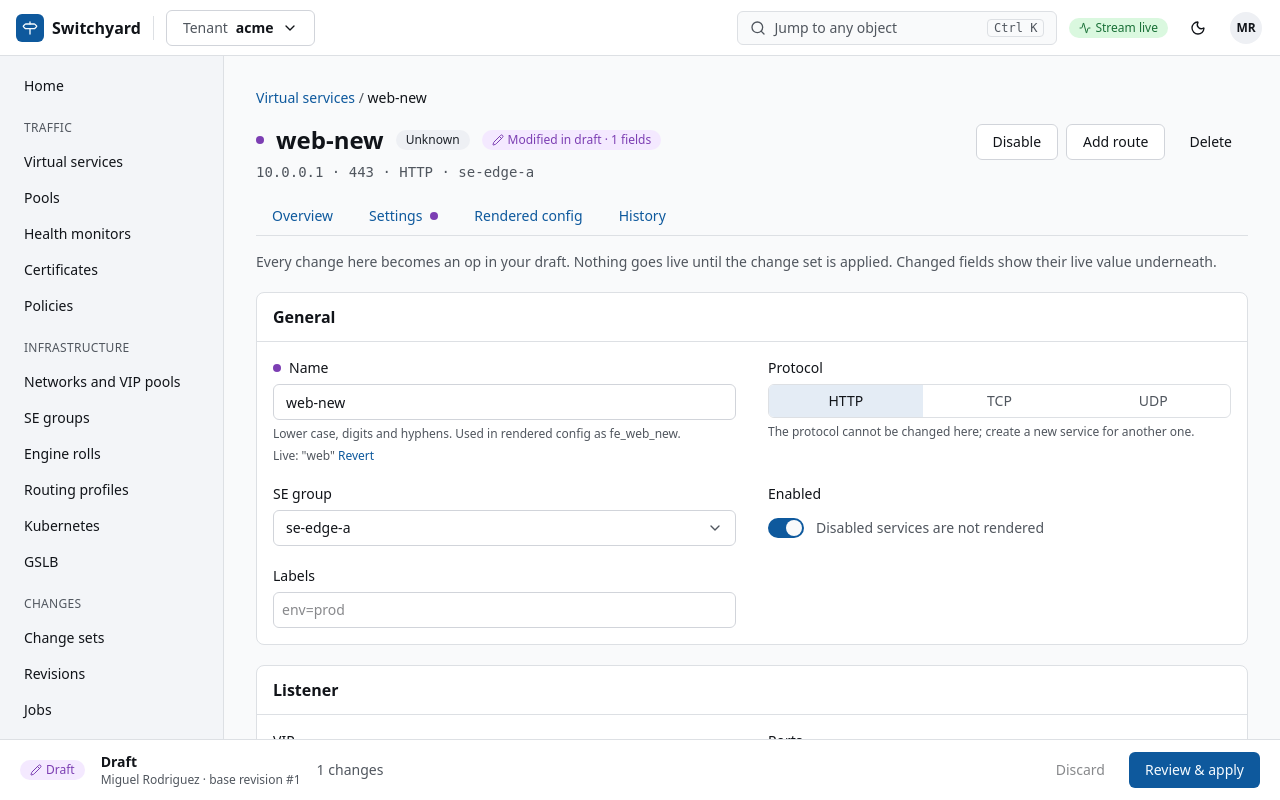
virtual service settings › marks drafted fields with the live value and a Revert action
Check: the element named "Changed in draft" next to "Settings" is shown, box [430,212,438,220]
Check: the text "Live: \"web\" Revert" is shown, box [273,447,374,464]
Click the button "Revert": [356, 456] box [338,448,374,464]
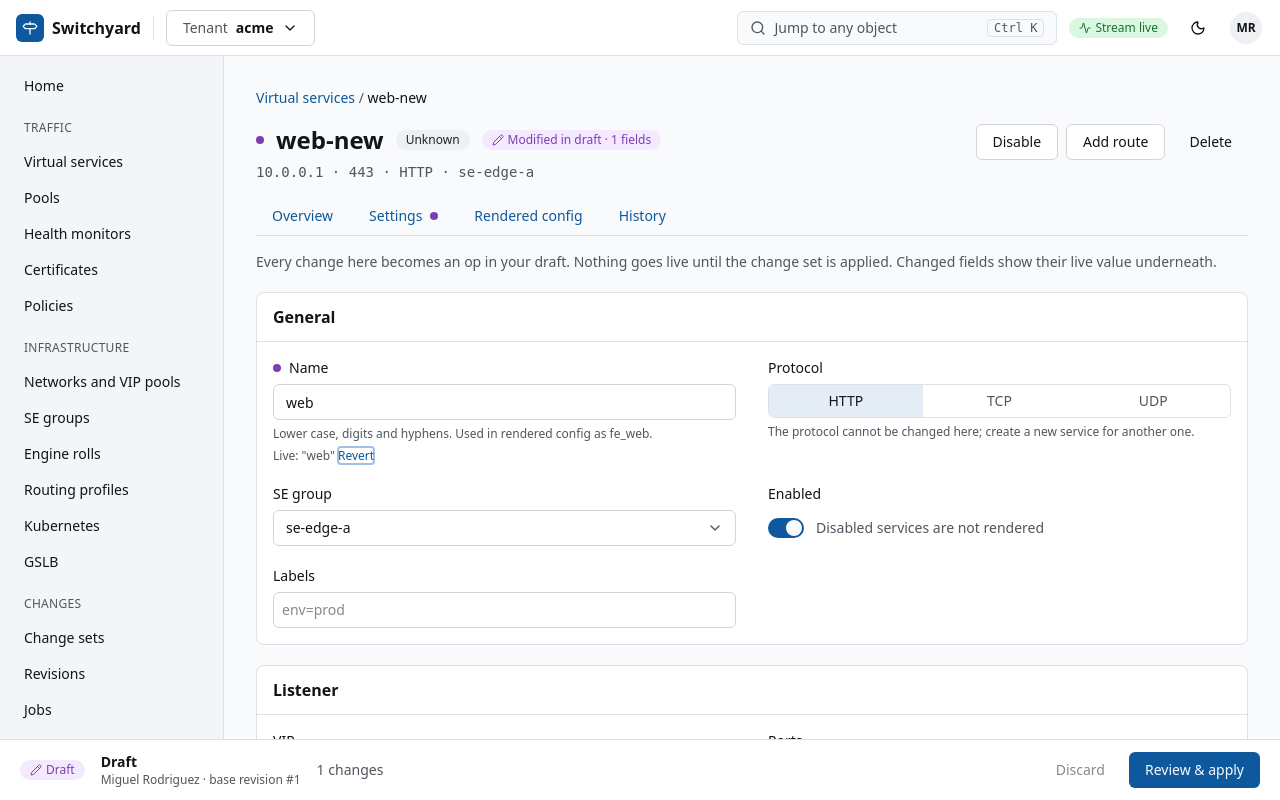
Check: the field named "Name" holds "web", box [273,384,736,420]
